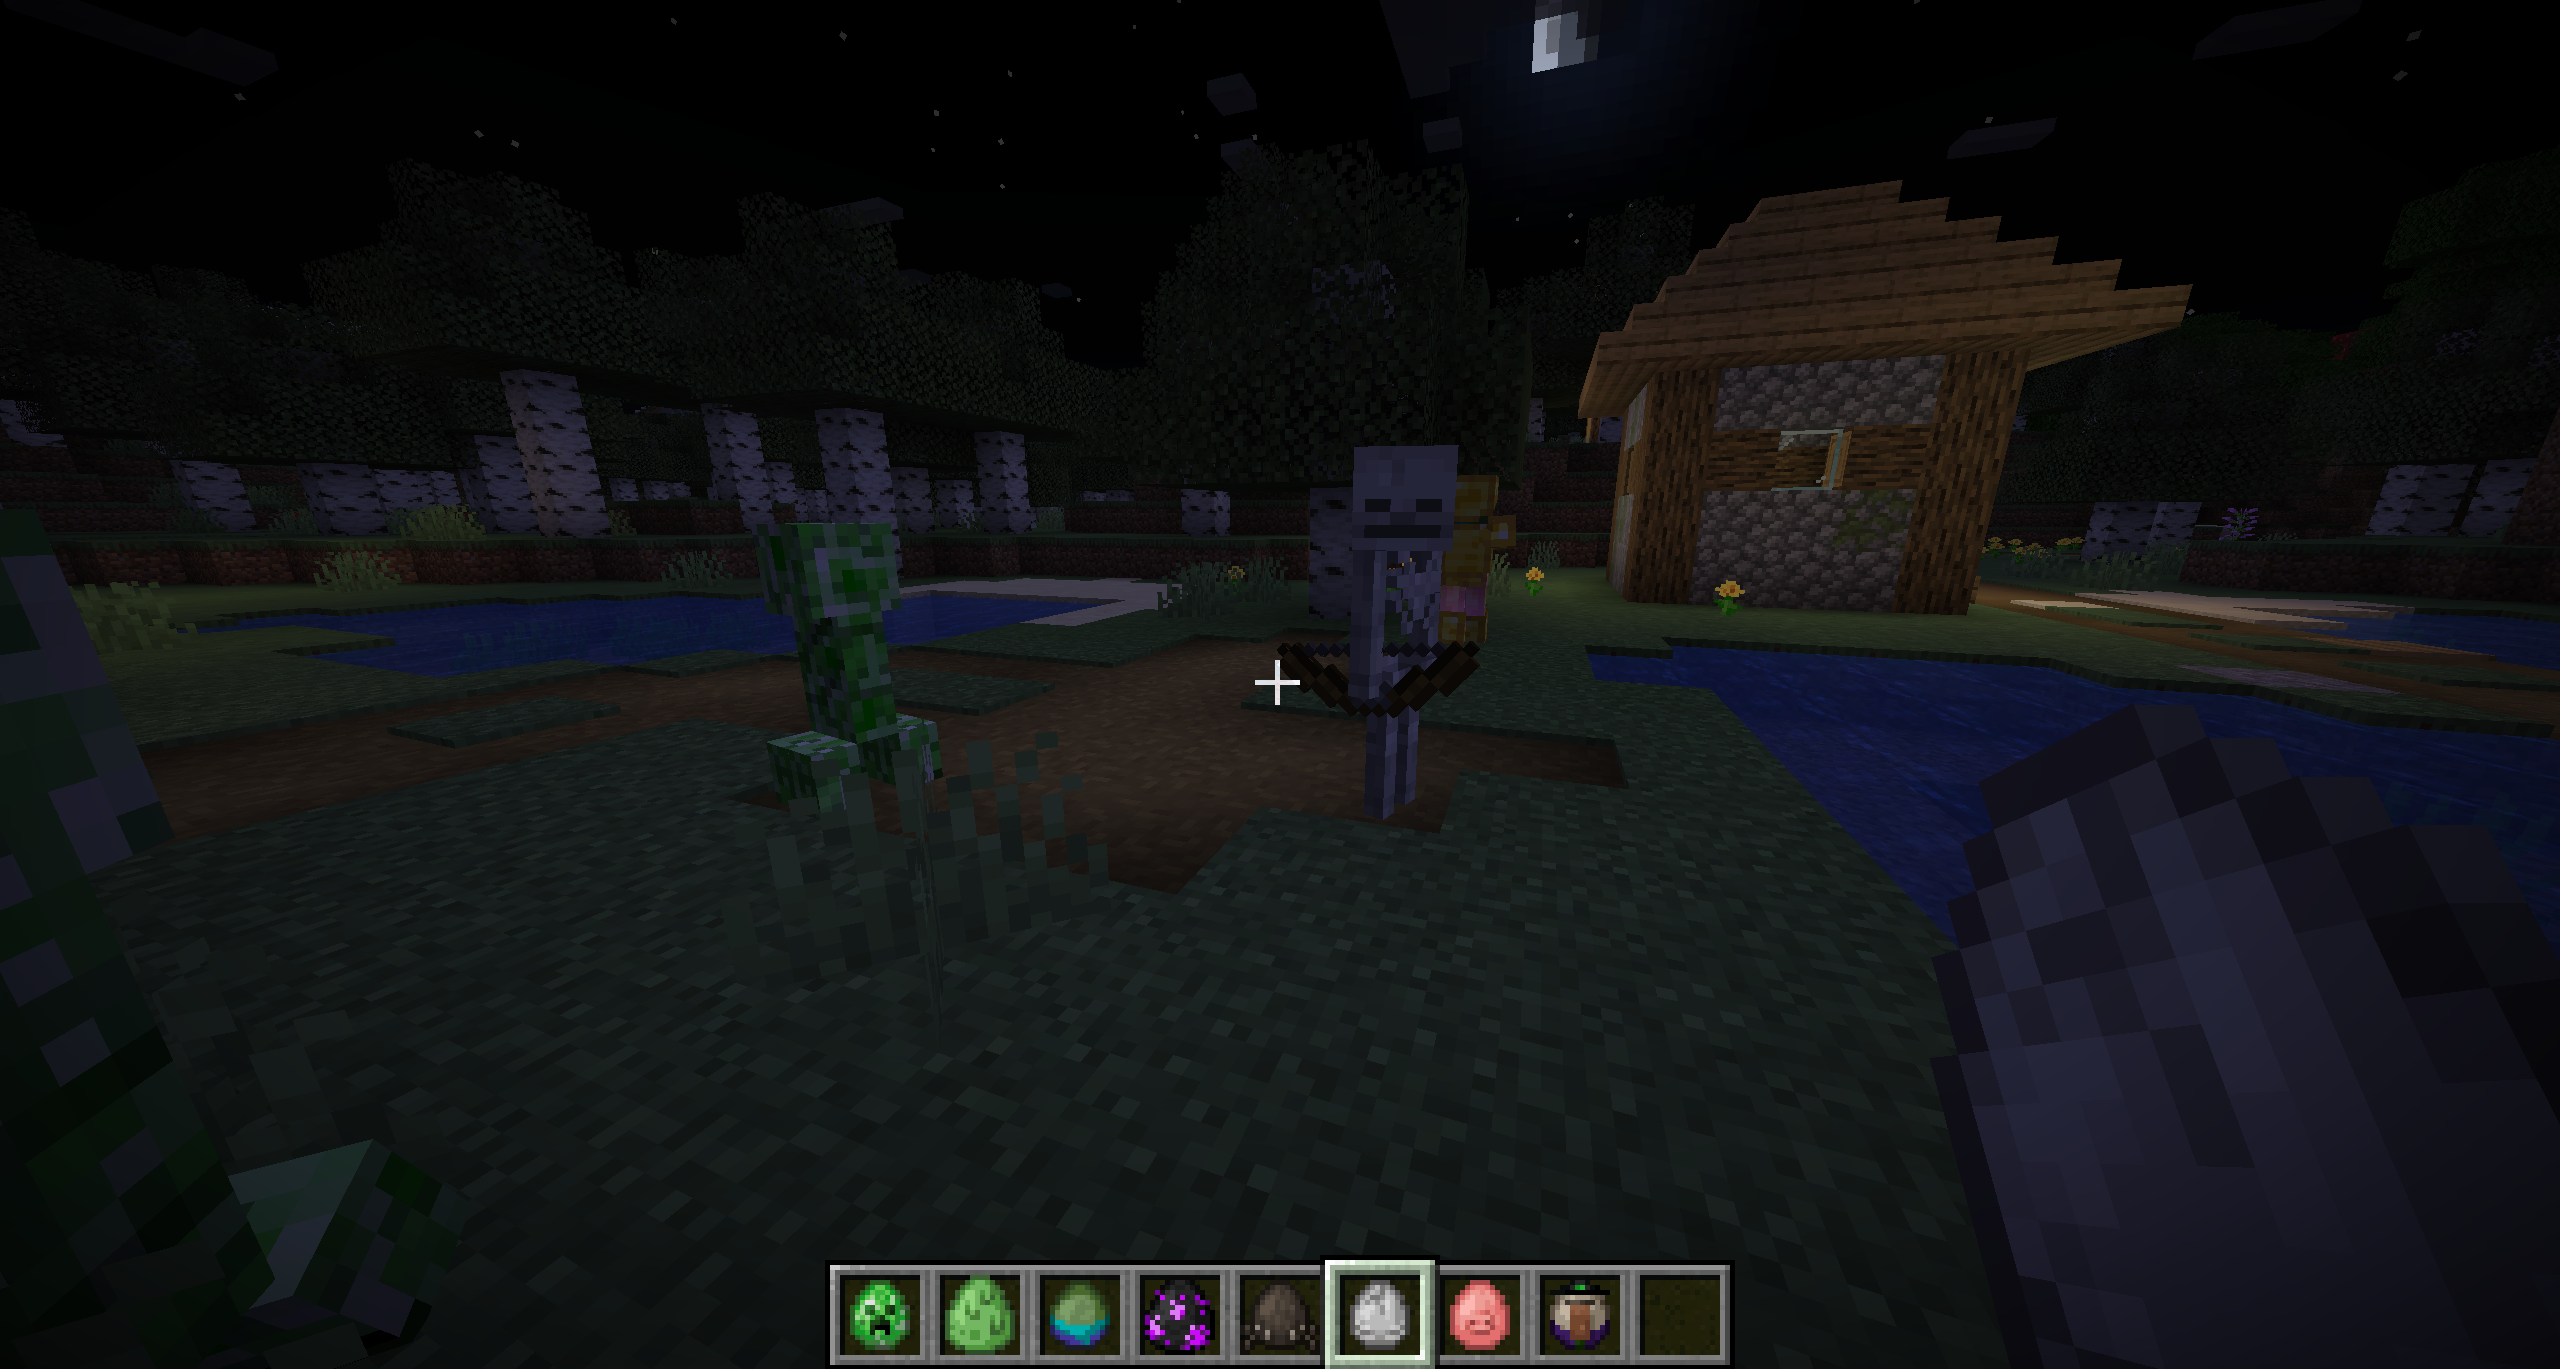araignees: (1329, 437, 1451, 812)
creepers: (0, 560, 364, 1345), (750, 523, 926, 800)
zombies: (1441, 479, 1507, 653)
